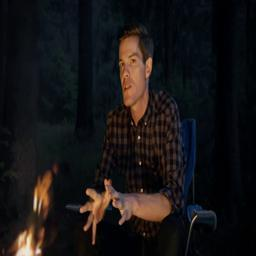fire: (9, 171, 52, 256)
